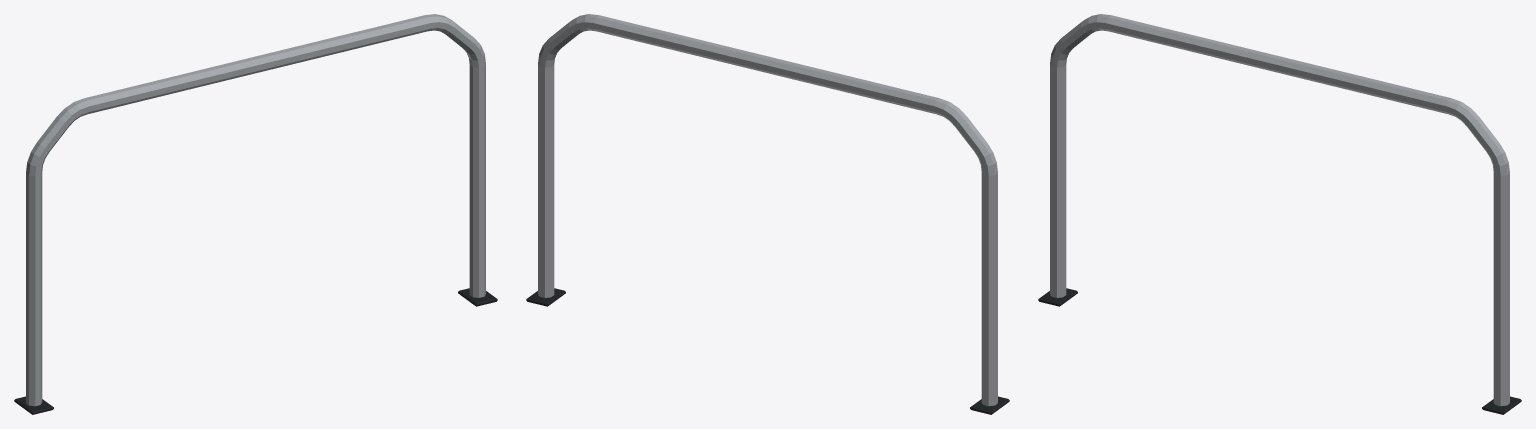
The model's file is hana_roadster_roll_hoop.glb.
3 views of the same model, side by side, from view 1: azimuth 30°, elevation 25°; view 2: azimuth 150°, elevation 25°; view 3: azimuth 330°, elevation 25° (orthographic).
Visible parts, largest first — view 1: model; view 2: model; view 3: model.
Boxes of the visible parts, x1,y1,x2,y2 form: model: (14,14,497,414); model: (526,14,1009,414); model: (1038,14,1521,414).
Size of the model in its own units: 1.47 by 0.8846 by 0.1.
2 materials, 1 textured.
